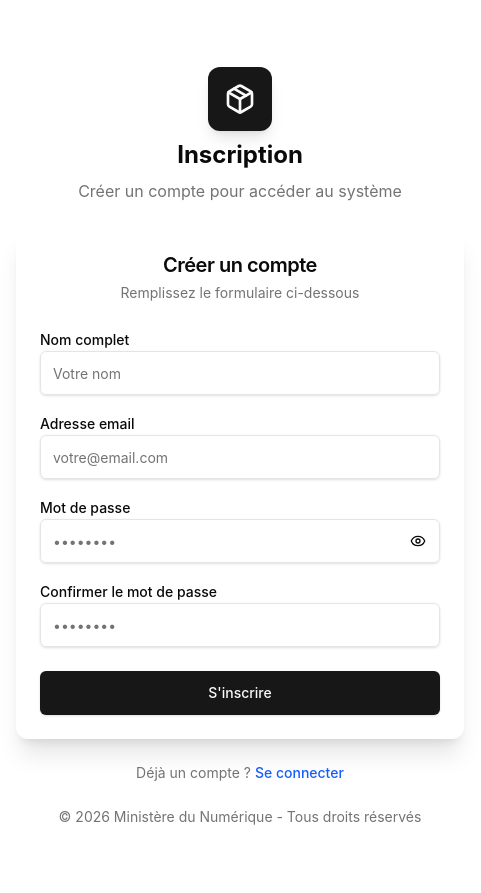
Register Component › handles general API errors correctly
Type "Jean Dupont" into the field labelled "Nom complet" at (240, 373), box [40,351,440,395]
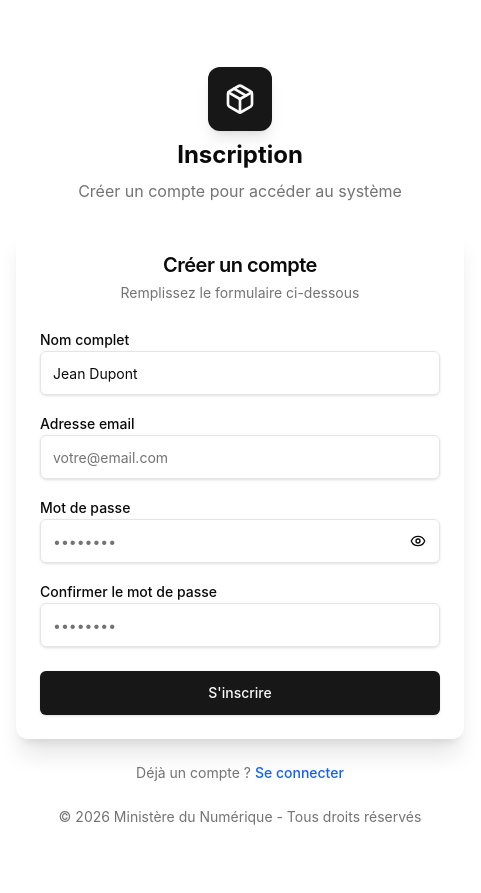
Type "jean@example.com" into the field labelled "Adresse email" at (240, 457), box [40,435,440,479]
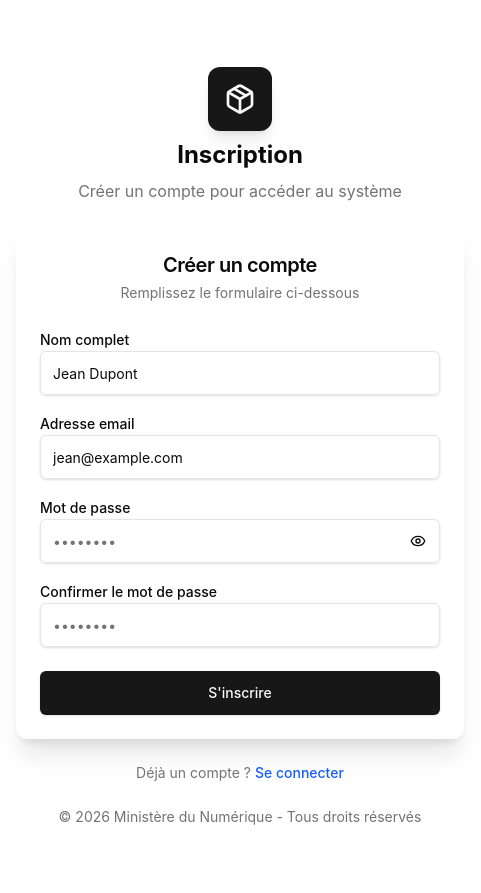
Type "StrongP@ssw0rd!" into the password field labelled "Mot de passe" at (240, 541), box [40,519,440,563]
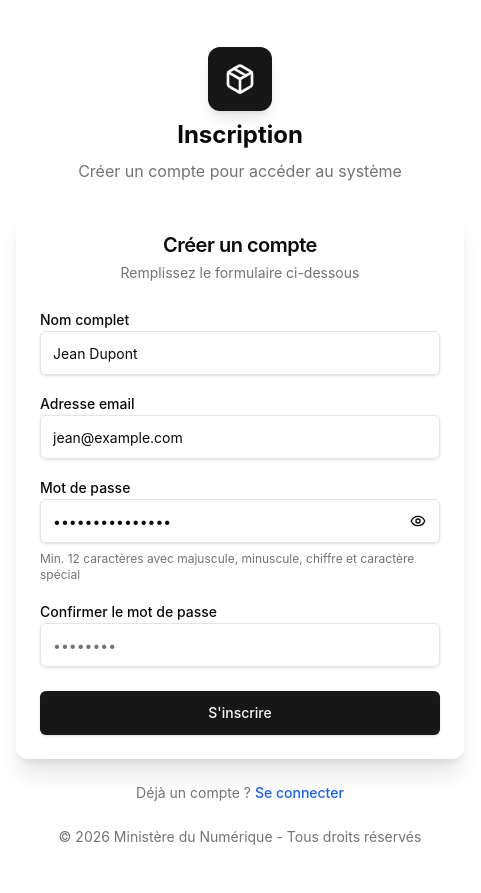
Type "StrongP@ssw0rd!" into the password field labelled "Confirmer le mot de passe" at (240, 645), box [40,623,440,667]
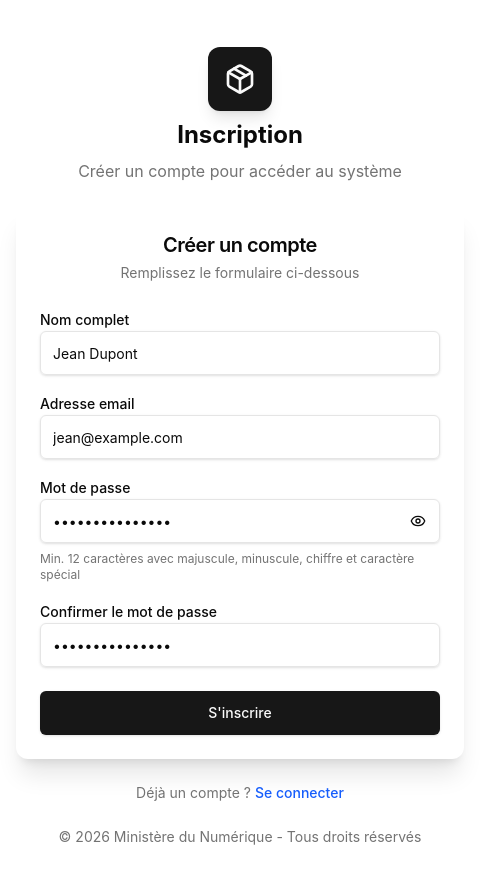
Submit the form named "S'inscrire", box [16,307,464,759]
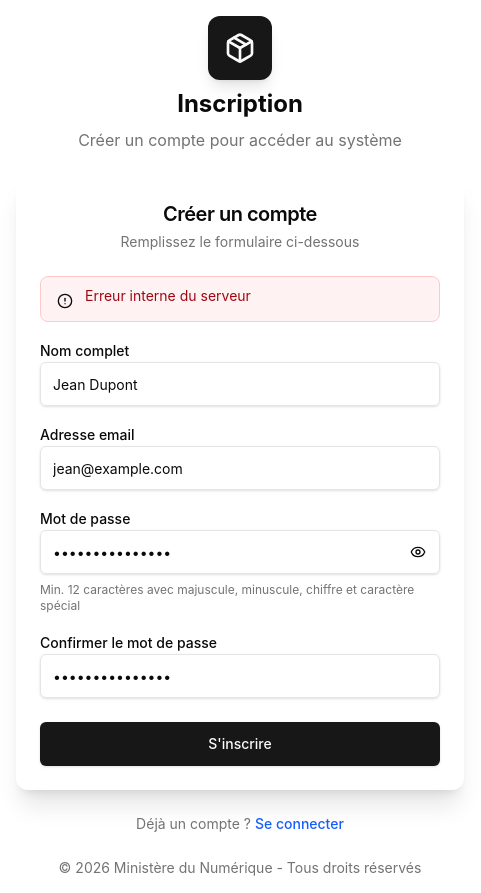
expect the text "Erreur interne du serveur" is shown: met, box [85,287,251,304]
